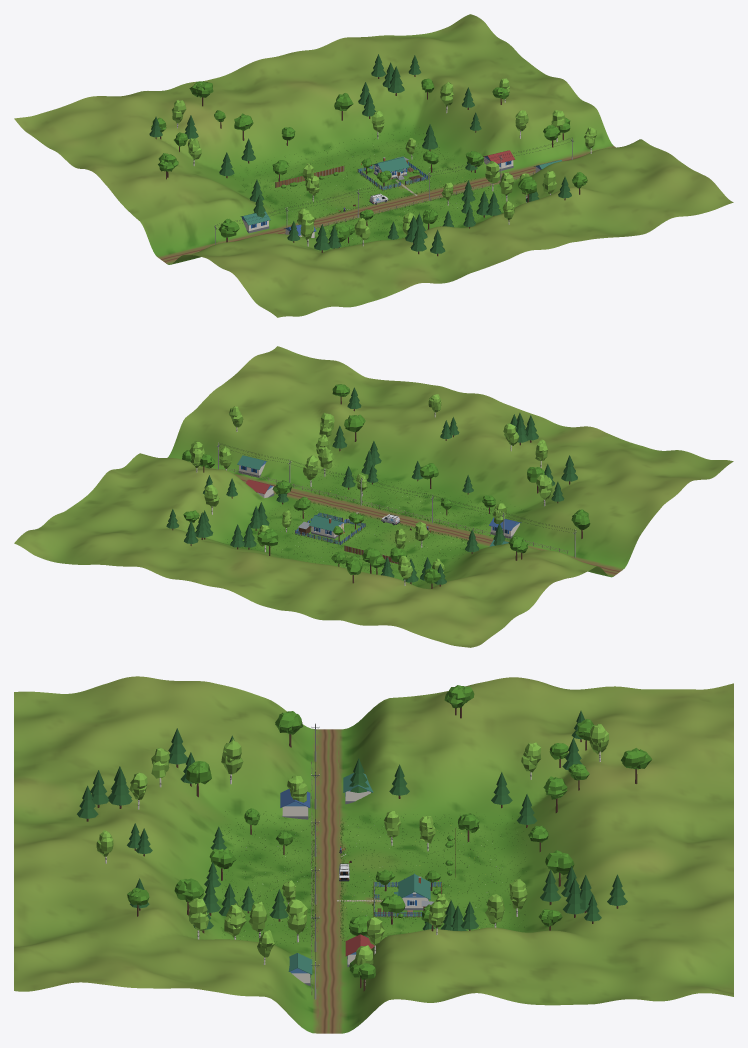
The model's file is landscape.glb.
3 views of the same model, one above another, from view 1: azimuth 30°, elevation 25°; view 2: azimuth 150°, elevation 25°; view 3: azimuth 270°, elevation 25° (orthographic). The views are drawn at different scales.
Visible parts, largest first — view 1: ground, trees_far_crowns, road, tree_crowns, grass, wall_house, trees_far_trunks; view 2: ground, trees_far_crowns, road, tree_crowns, grass, wall_house, trees_far_trunks; view 3: ground, trees_far_crowns, road, tree_crowns, grass, wall_house, trees_far_trunks, house_far_2, house_far_3.
Boxes of the visible parts, x1,y1,x2,y2 form: ground: (14, 14, 733, 317); trees_far_crowns: (149, 54, 596, 253); road: (159, 146, 615, 263); tree_crowns: (272, 138, 475, 220); grass: (233, 128, 516, 246); wall_house: (372, 156, 409, 180); trees_far_trunks: (155, 75, 591, 256); ground: (14, 346, 733, 647); trees_far_crowns: (166, 384, 590, 584); road: (237, 476, 622, 575); tree_crowns: (282, 466, 452, 562); grass: (227, 465, 524, 584); wall_house: (309, 515, 346, 539); trees_far_trunks: (172, 396, 582, 588); ground: (14, 676, 733, 1033); trees_far_crowns: (77, 685, 652, 979); road: (317, 729, 340, 1033); tree_crowns: (270, 811, 479, 918); grass: (221, 811, 526, 944); wall_house: (394, 873, 430, 910); trees_far_trunks: (86, 707, 637, 991); house_far_2: (280, 789, 310, 819); house_far_3: (288, 953, 312, 985).
Bounding box in the file's own units: 160 × 20.8 × 160.
Materials: 52 (2 with a texture image).
